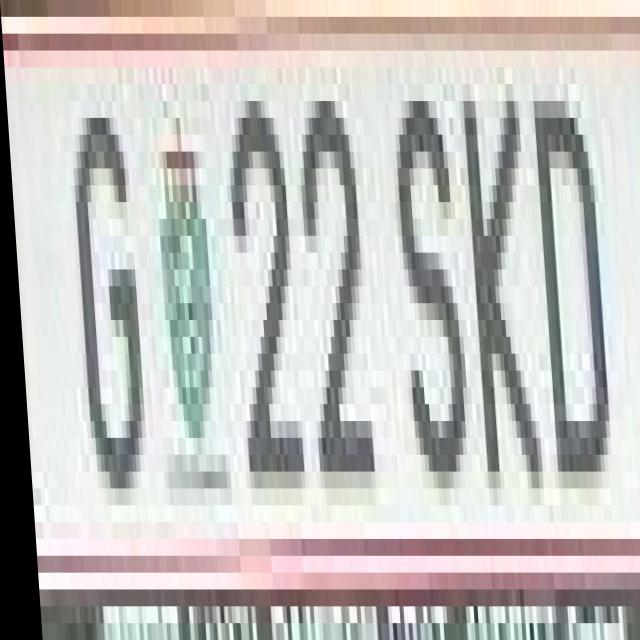2: (216, 101, 298, 472), (293, 84, 364, 472)
D: (529, 51, 607, 488)
G: (66, 67, 148, 522)
K: (455, 51, 542, 506)
S: (385, 51, 463, 488)
